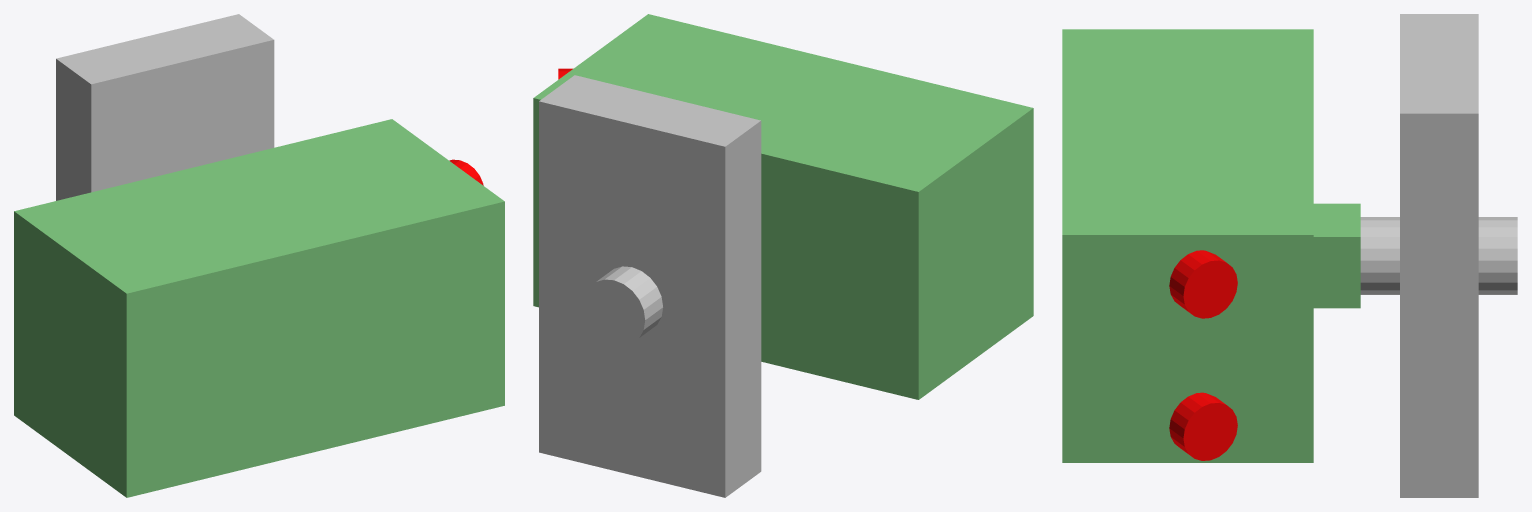
The model's file is WAIST_LINK3_mesh.dae.
3 views of the same model, side by side, from view 1: azimuth 30°, elevation 25°; view 2: azimuth 150°, elevation 25°; view 3: azimuth 270°, elevation 25° (orthographic). The views are drawn at different scales.
Parts seen in each view (by area): view 1: WAIST_LINK3 (×2); view 2: WAIST_LINK3 (×3); view 3: WAIST_LINK3 (×6).
Part boxes in pixels (x1,y1,x2,y2): WAIST_LINK3 (×2): (14, 14, 504, 497); WAIST_LINK3 (×3): (533, 14, 1033, 497); WAIST_LINK3 (×6): (1062, 14, 1517, 497).
Bounding box in the file's own units: 0.3378 × 0.27 × 0.29.
